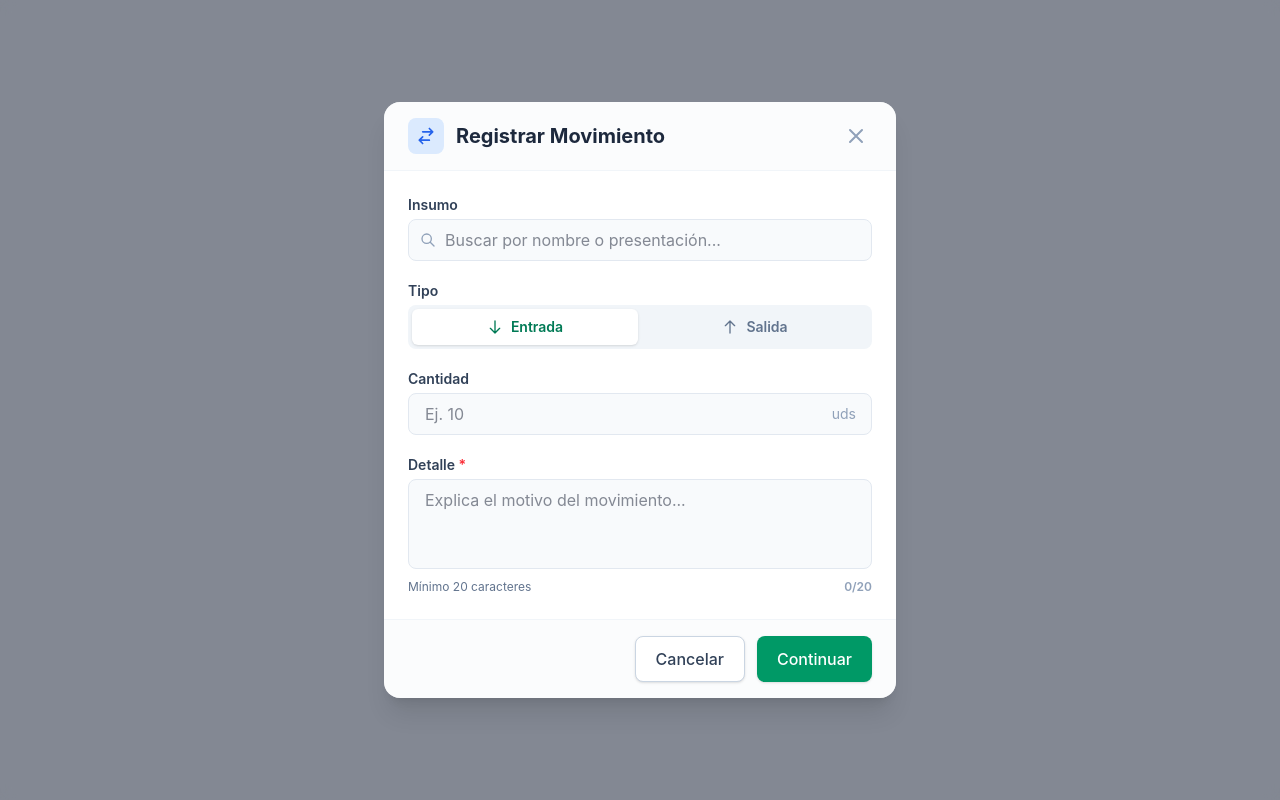
Test: MovimientoModal (registro de entradas y salidas) › advierte cuando la salida supera el stock disponible
Step 1. Type "gasa" into the dropdown → (640, 240), box [408,219,872,261]
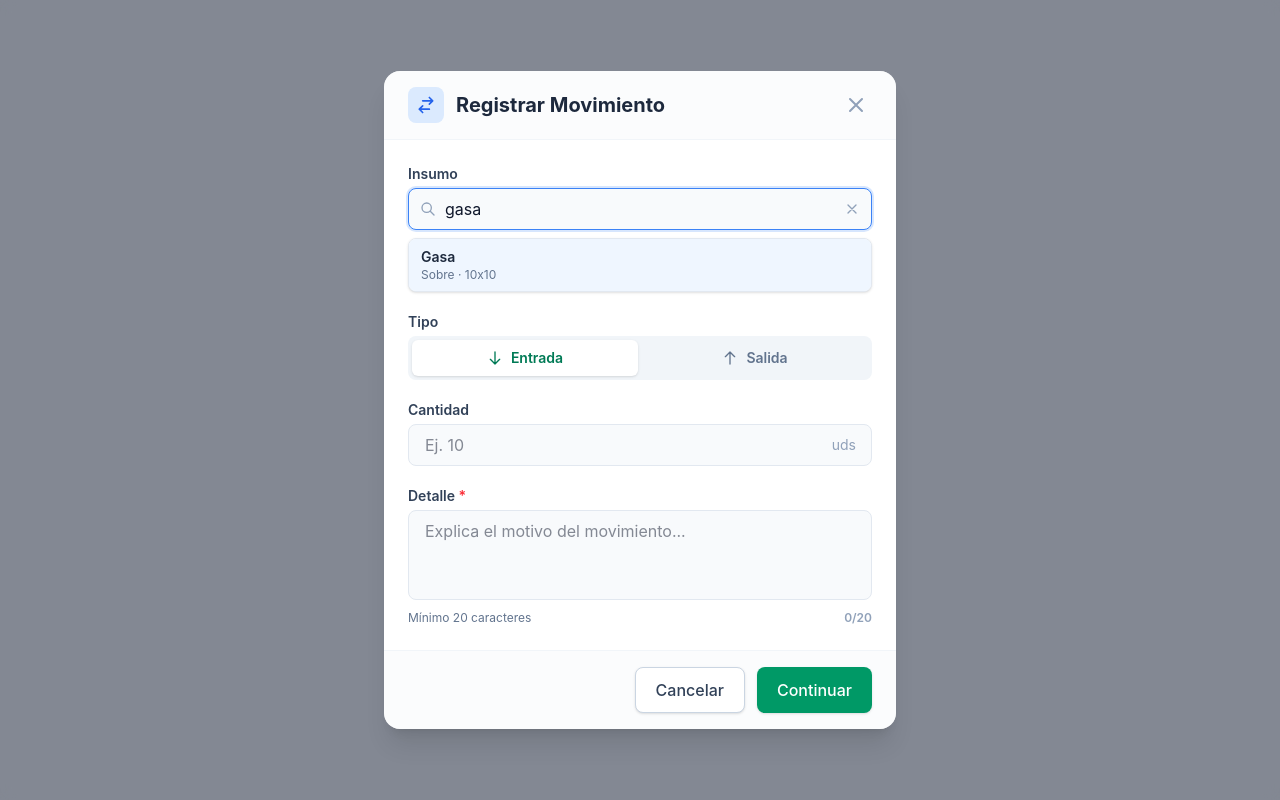
Step 2. Click the option "Gasa Sobre · 10x10" → (438, 256), box [409,239,871,291]
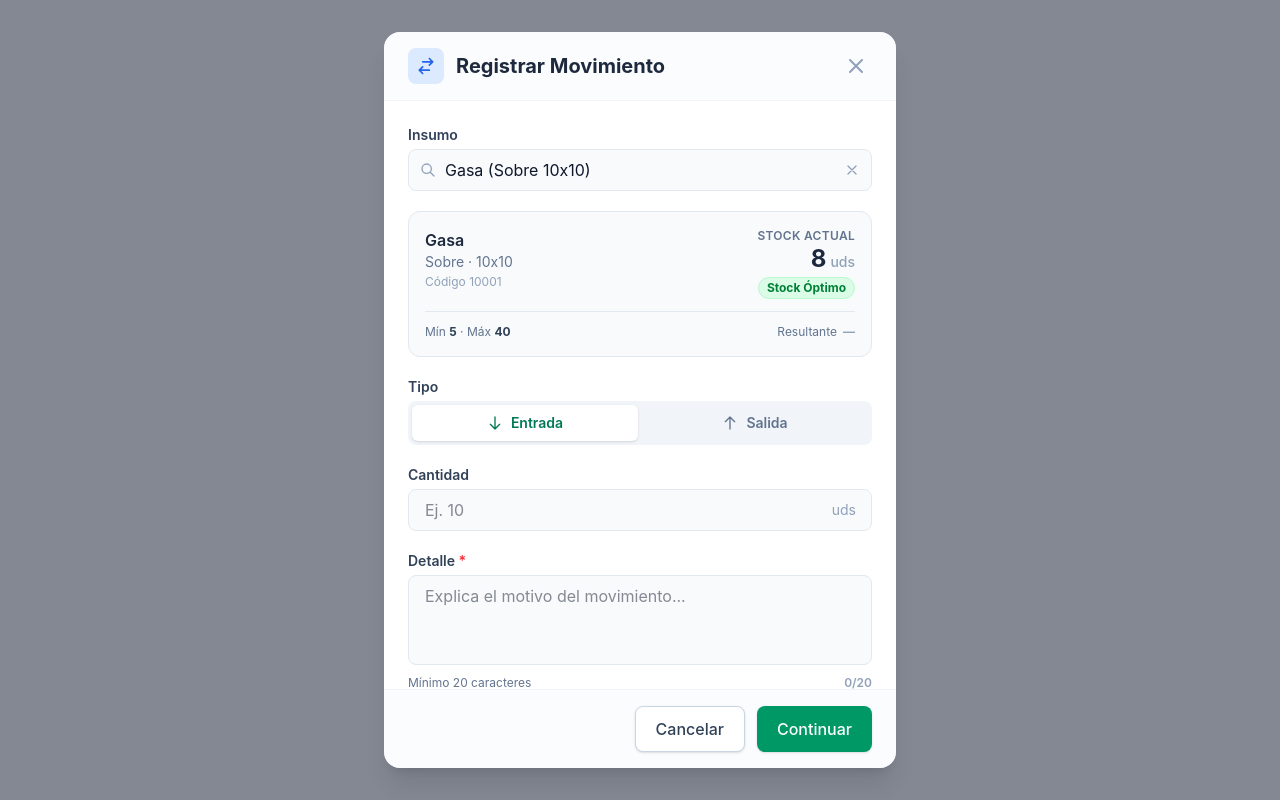
Step 3. Click the button "Salida" → (755, 423), box [642,405,868,441]
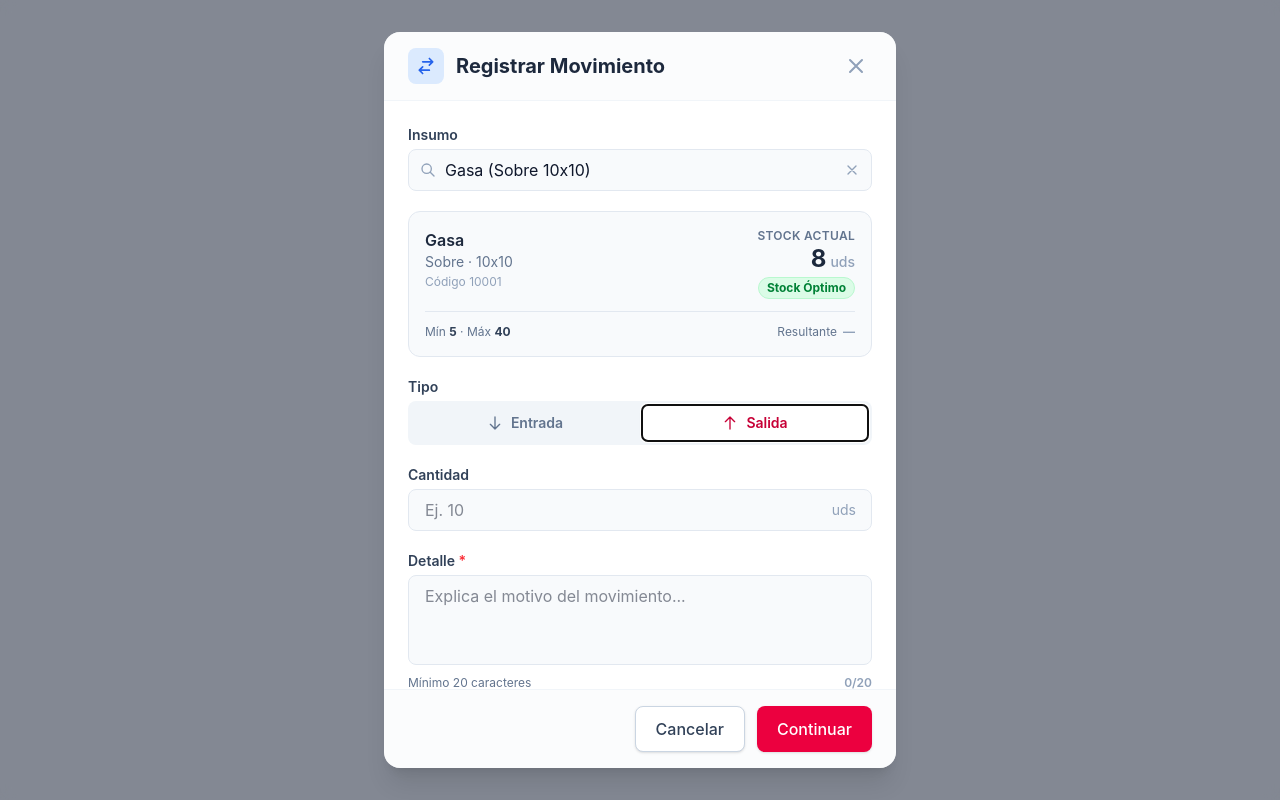
Step 4. Type "10" into the number field → (640, 510), box [408,489,872,531]
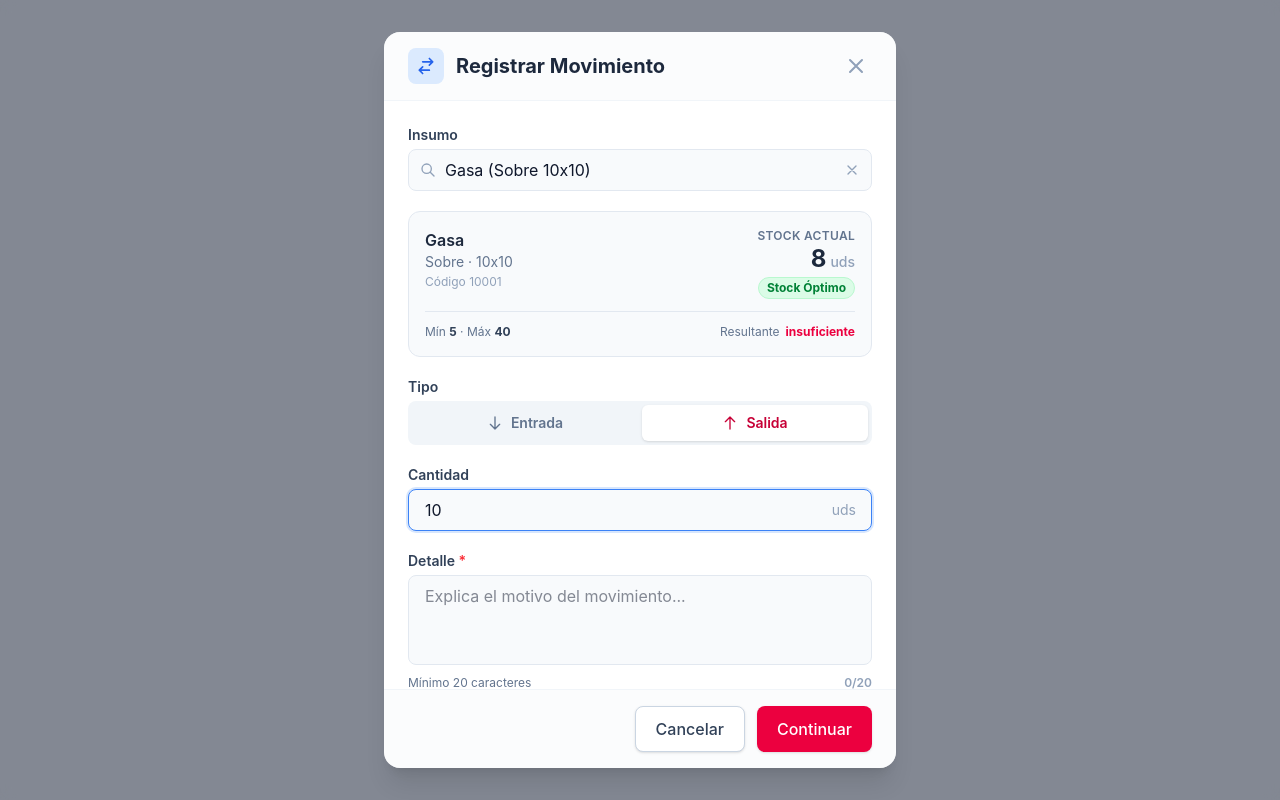
Expected: the text "insuficiente" is shown, [786,324,855,340]
